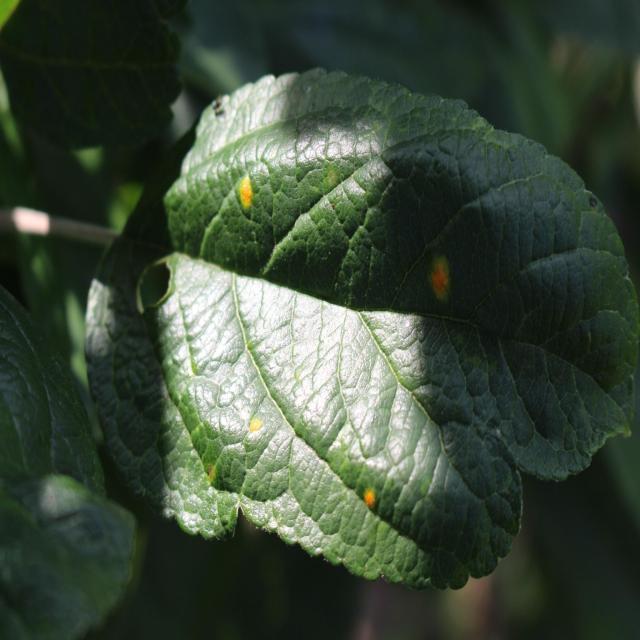Rust: (423, 247, 464, 313), (356, 465, 384, 529), (237, 169, 260, 222)
